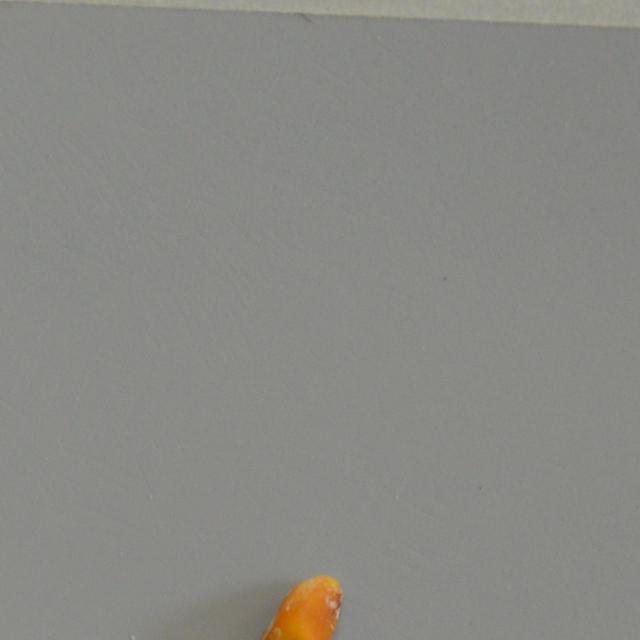dañado: (258, 574, 342, 640)
